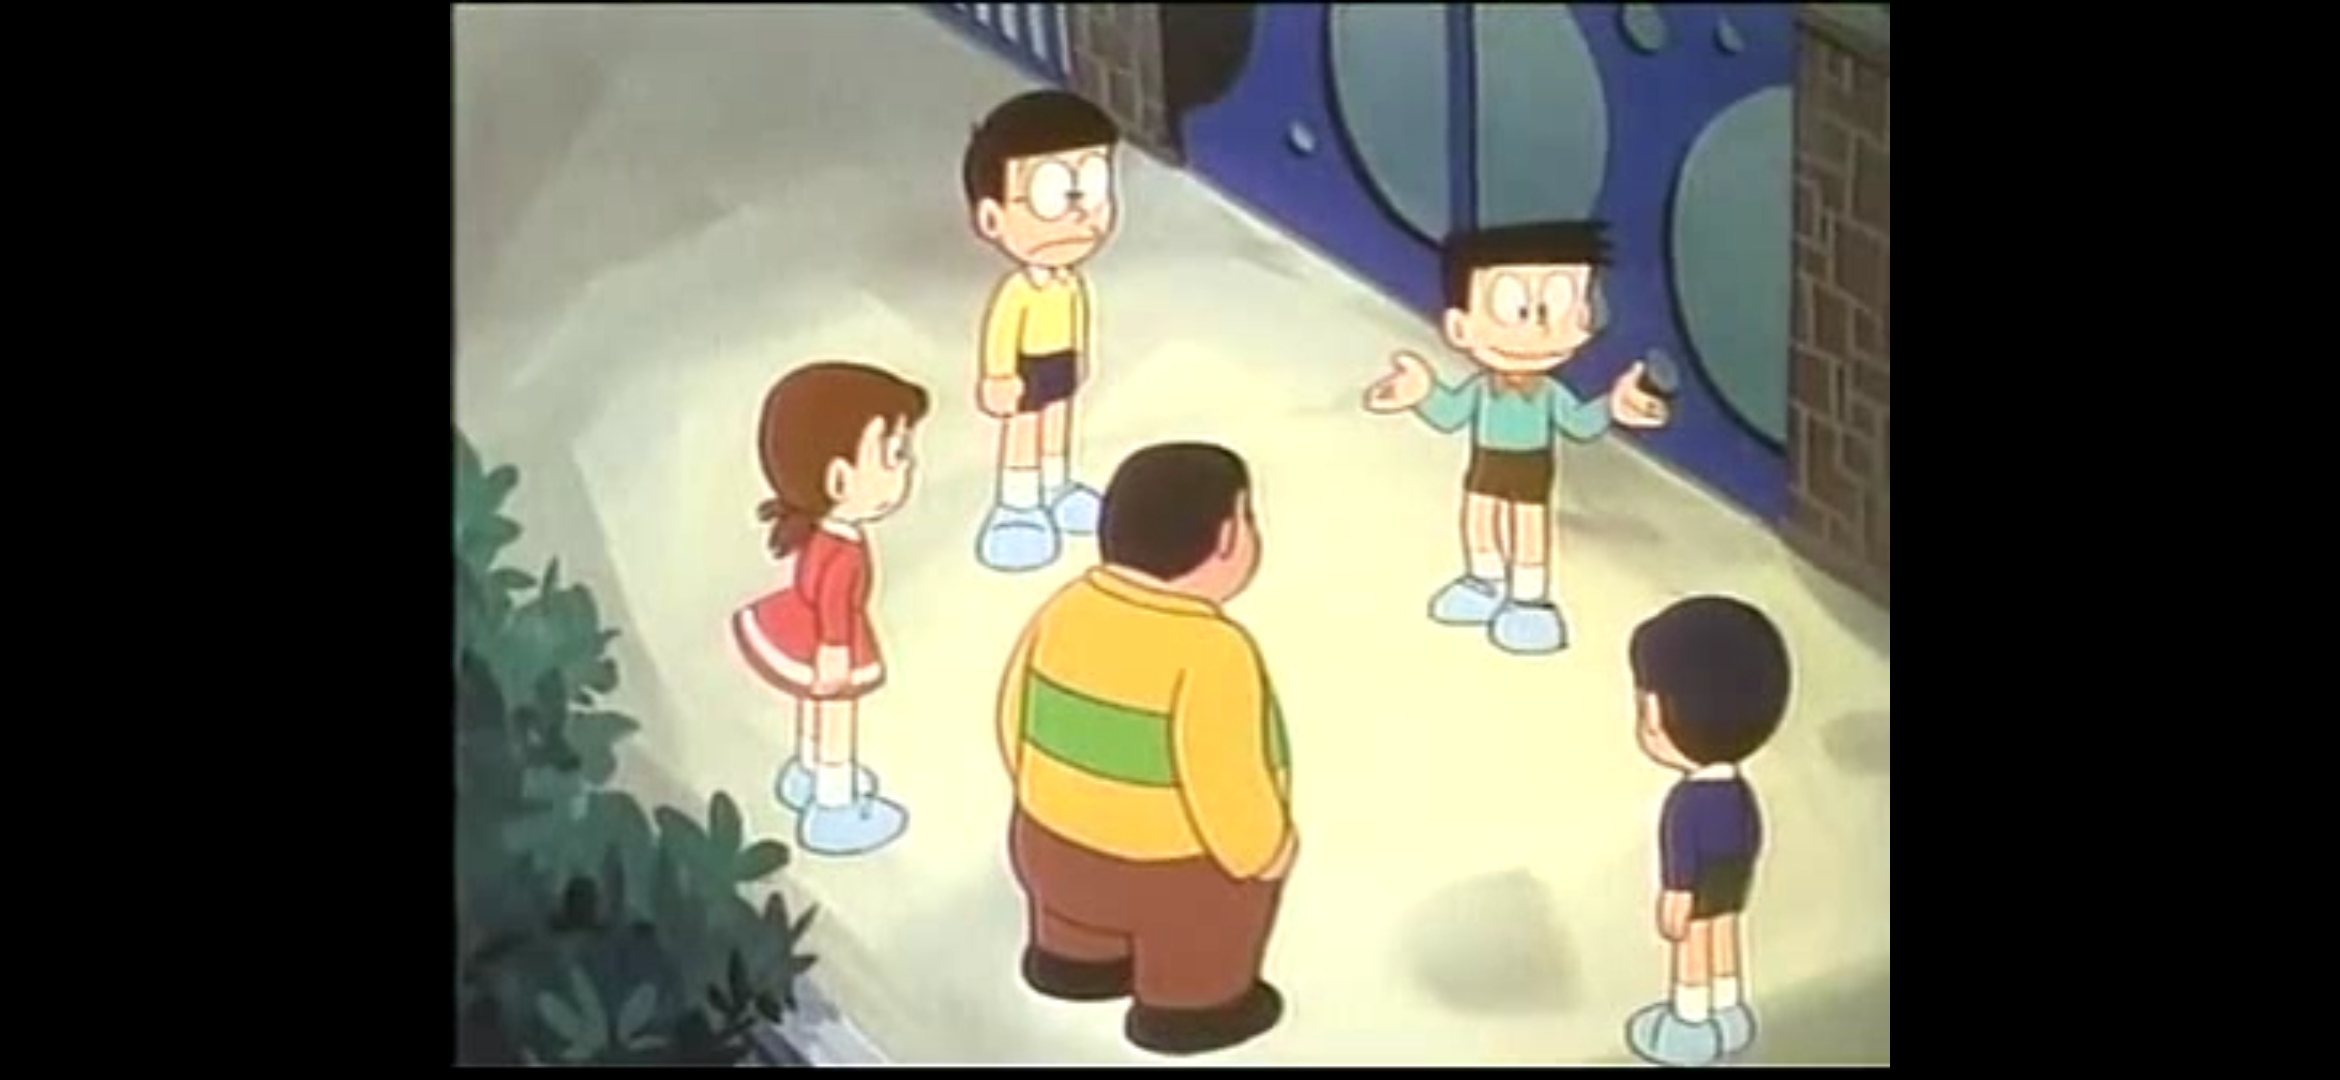Nobi: (961, 90, 1118, 260)
Shizuka: (755, 361, 925, 522)
Suneo: (1443, 218, 1612, 374)
Takeshi: (1097, 442, 1260, 604)
